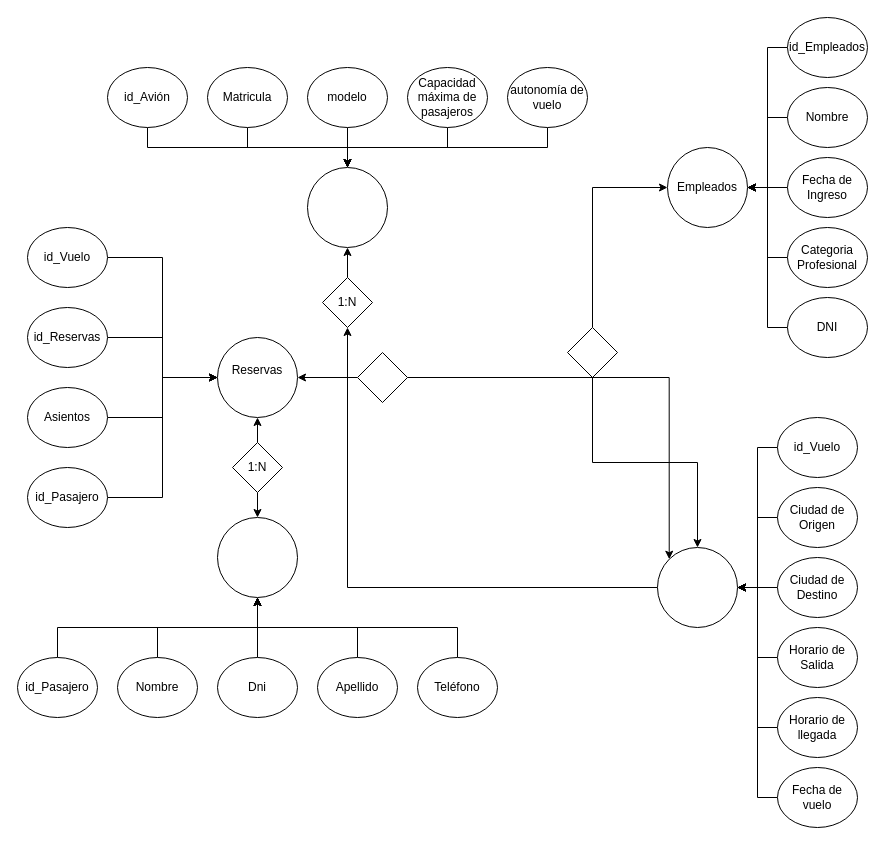
Some shapes in this 885 by 845 pixel diagram are drawn without their labels. Here are the shapes that lost their labels. From the top down, the centre of each, then its label:
At pixel 347 207: "Avión".
At pixel 592 352: "N:M".
At pixel 382 377: "N:1".
At pixel 257 557: "Pasajeros".
At pixel 697 587: "Vuelo".
